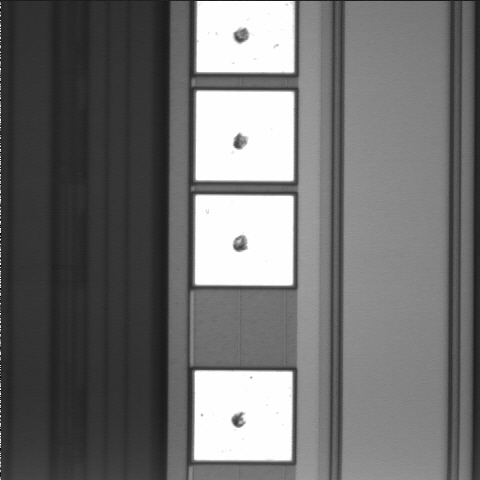pad: (195, 195, 293, 286), (196, 91, 294, 181), (194, 371, 292, 461)
